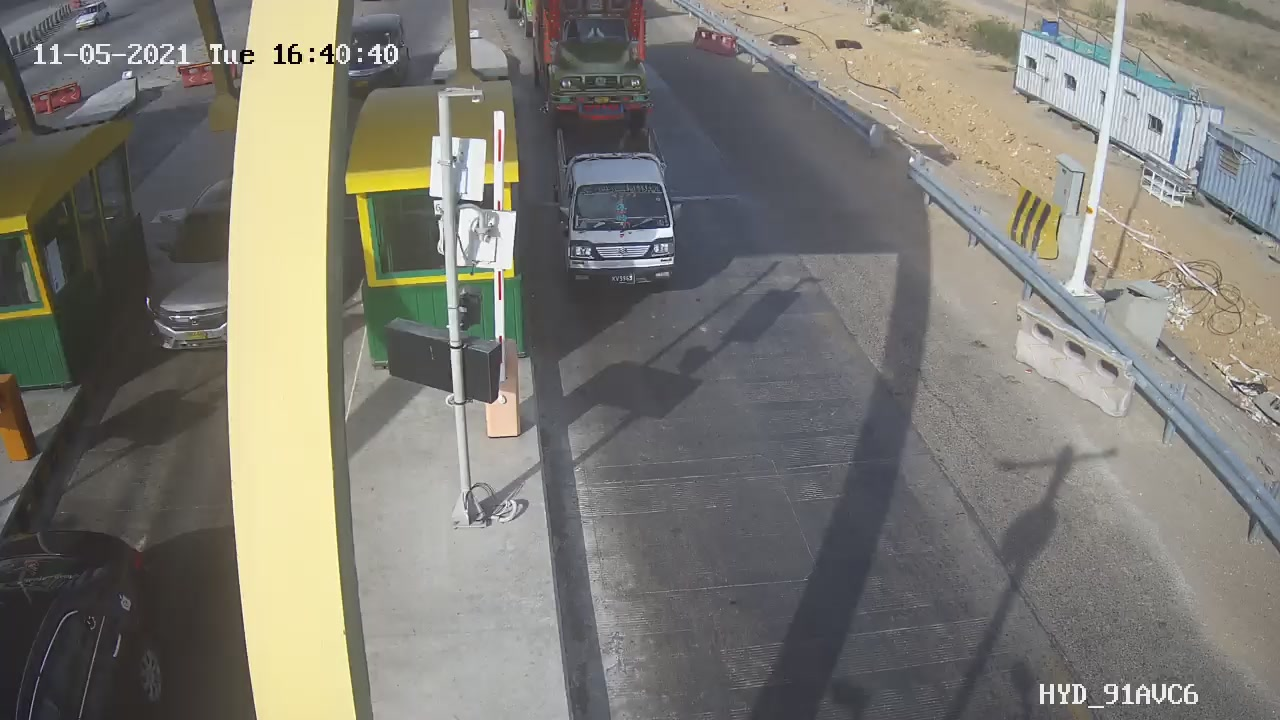F1: (539, 120, 704, 304)
